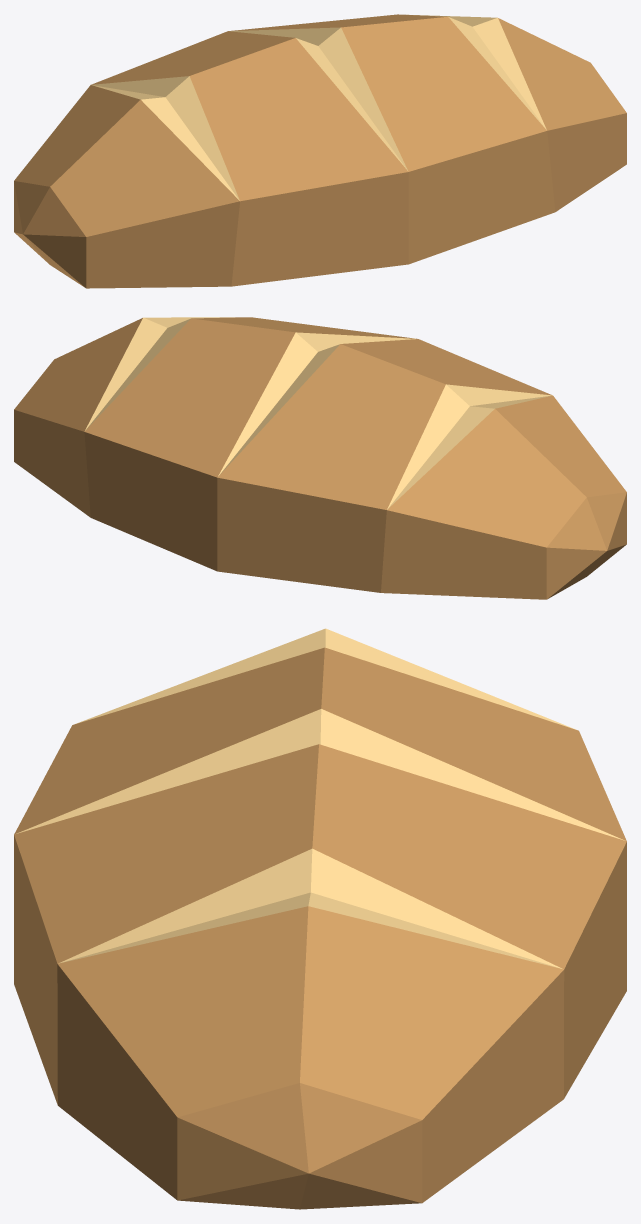
File: Food_bread.glb
3 renders of one model, top to bottom at view 1: azimuth 30°, elevation 25°; view 2: azimuth 150°, elevation 25°; view 3: azimuth 270°, elevation 25°, orthographic. The views are drawn at different scales.
Parts seen in each view (by area): view 1: bread; view 2: bread; view 3: bread.
Boxes of the visible parts, x1=… form: bread: x1=14, y1=14, x2=626, y2=288; bread: x1=14, y1=317, x2=626, y2=599; bread: x1=14, y1=628, x2=626, y2=1209.
Bounding box in the file's own units: 0.3752 × 0.1043 × 0.2122.
1 material, 1 textured.
